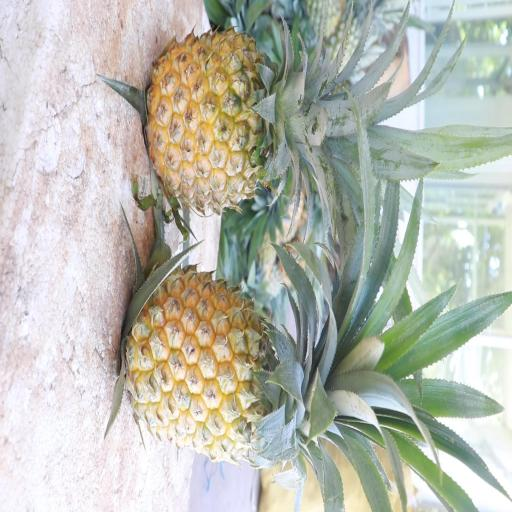Pineapple - v8 v1: (120, 260, 372, 467), (143, 24, 349, 224)
